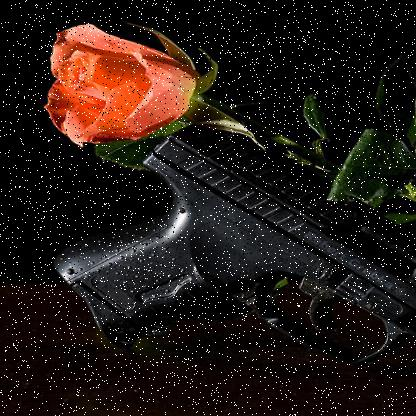pistol: (48, 134, 415, 361)
